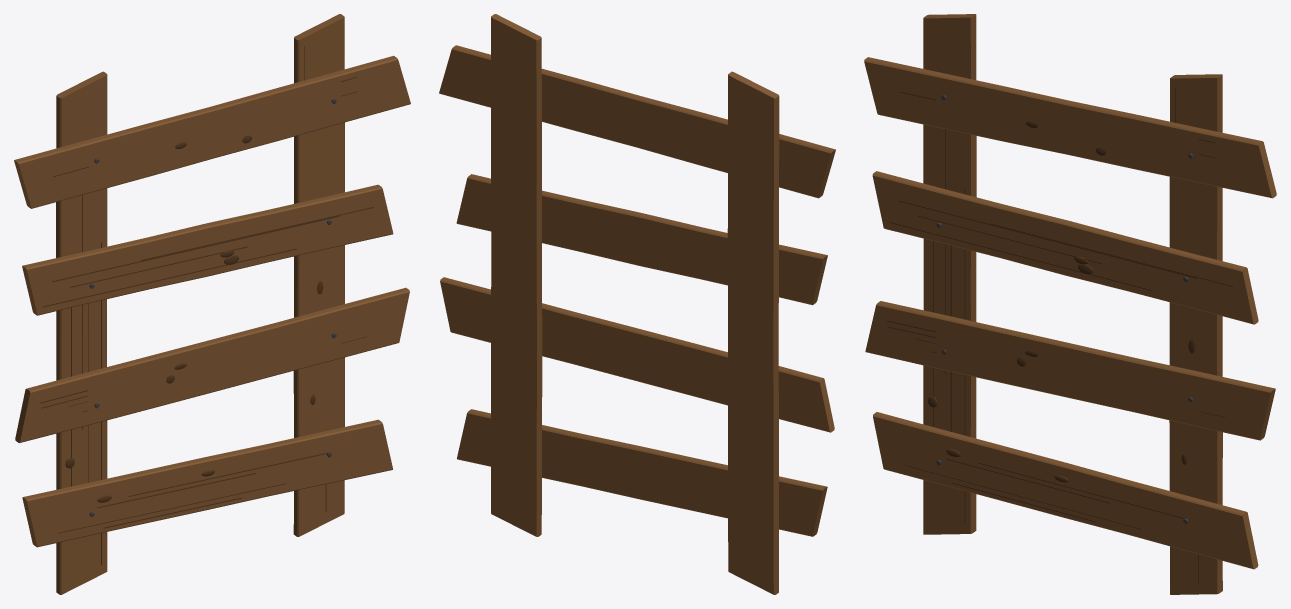
The model's file is planks_barricade.obj.
The picture shows the model from 3 angles, left to right: view 1: azimuth 30°, elevation 25°; view 2: azimuth 150°, elevation 25°; view 3: azimuth 330°, elevation 25°; orthographic projection. The views are drawn at different scales.
Parts seen in each view (by area): view 1: planks_barricade; view 2: planks_barricade; view 3: planks_barricade.
Boxes of the visible parts, left/top/right/bottom form: planks_barricade: left=14, top=14, right=410, bottom=594; planks_barricade: left=439, top=14, right=835, bottom=594; planks_barricade: left=864, top=14, right=1276, bottom=594.
Size of the model in its own units: 1.66 by 2.05 by 0.099.
